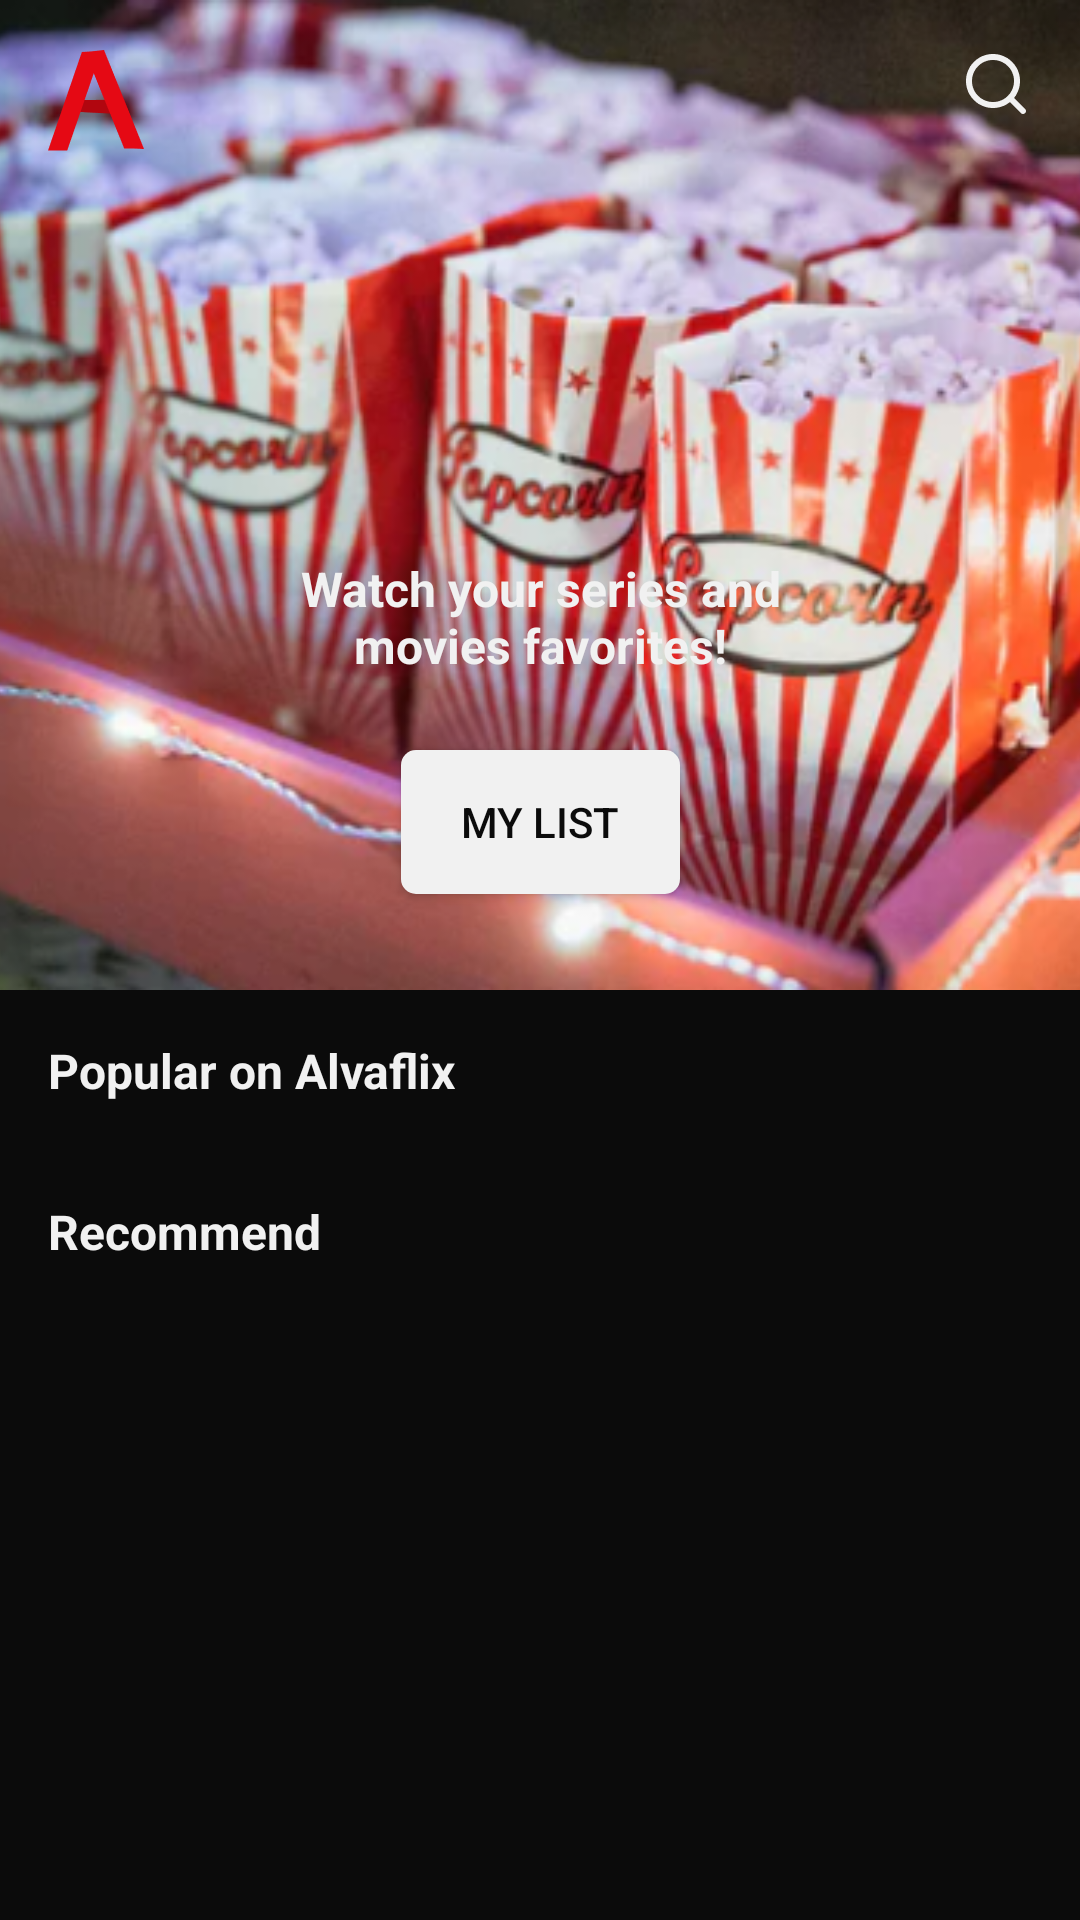

Icon click points for this 1080*1920 phone screenshot, format (x,y):
Search: (996,84)
